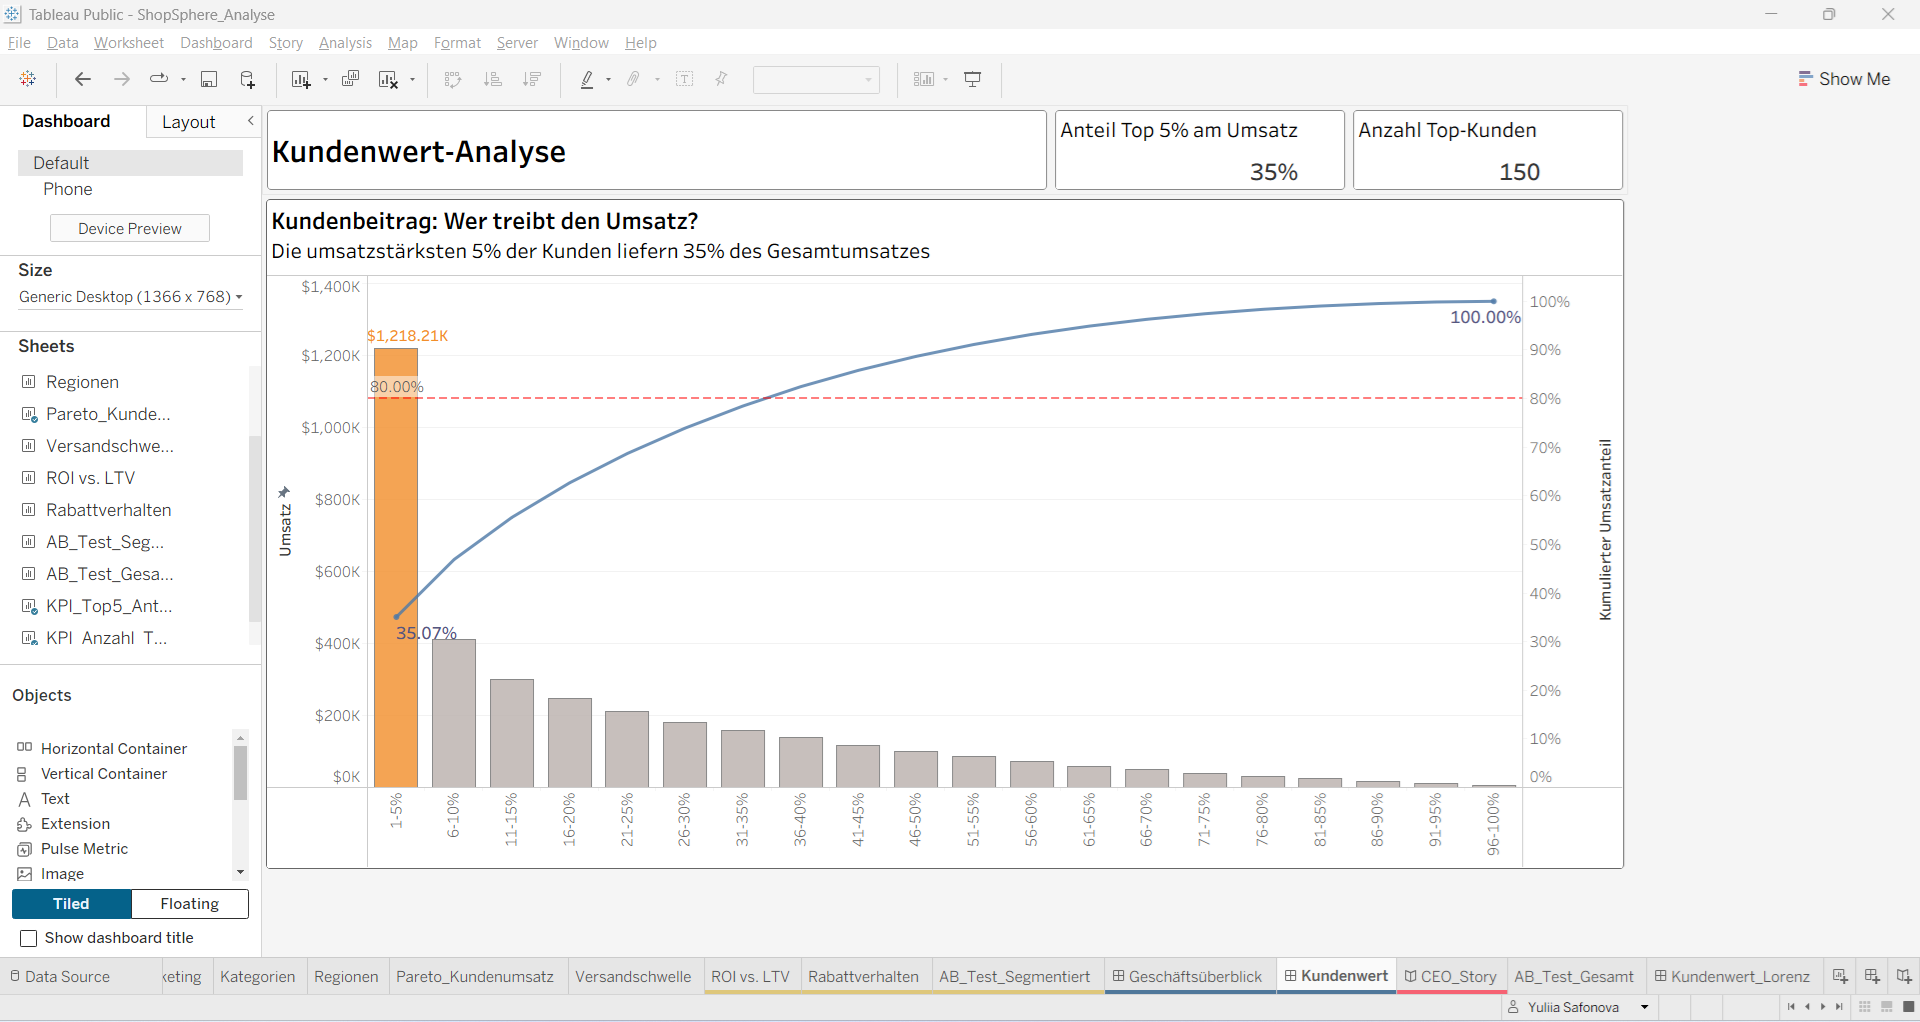

The page's visual inventory and layout, read from the dashboard file:
{"tool":"tableau","page":{"name":"Kundenwert","canvas":[1366,768],"ordinal":1},"visuals":[{"type":"text","box":[1,1,788,88]},{"type":"worksheet","title":"KPI_Top5_Anteil","mark":"Automatic","box":[789,1,298,88]},{"type":"worksheet","title":"KPI_Anzahl_Top_Kunden","mark":"Automatic","box":[1087,1,278,88]},{"type":"worksheet","title":"Pareto_Kundenumsatz","mark":"Automatic","rows":["group_revenue","Calculation_1023945934778369"],"cols":["group_label"],"box":[0,90,1366,678]}]}

Visuals, with their boxes on the page's 1366x768 design canvas (x1, y1, x2, y2). These are canvas units, not pixel positions in the 1920x1022 screenshot, which may show the page scaled, cropped or inside an application window:
text: (left=1, top=1, right=789, bottom=89)
"KPI_Top5_Anteil" worksheet: (left=789, top=1, right=1087, bottom=89)
"KPI_Anzahl_Top_Kunden" worksheet: (left=1087, top=1, right=1365, bottom=89)
"Pareto_Kundenumsatz" worksheet: (left=0, top=90, right=1366, bottom=768)
